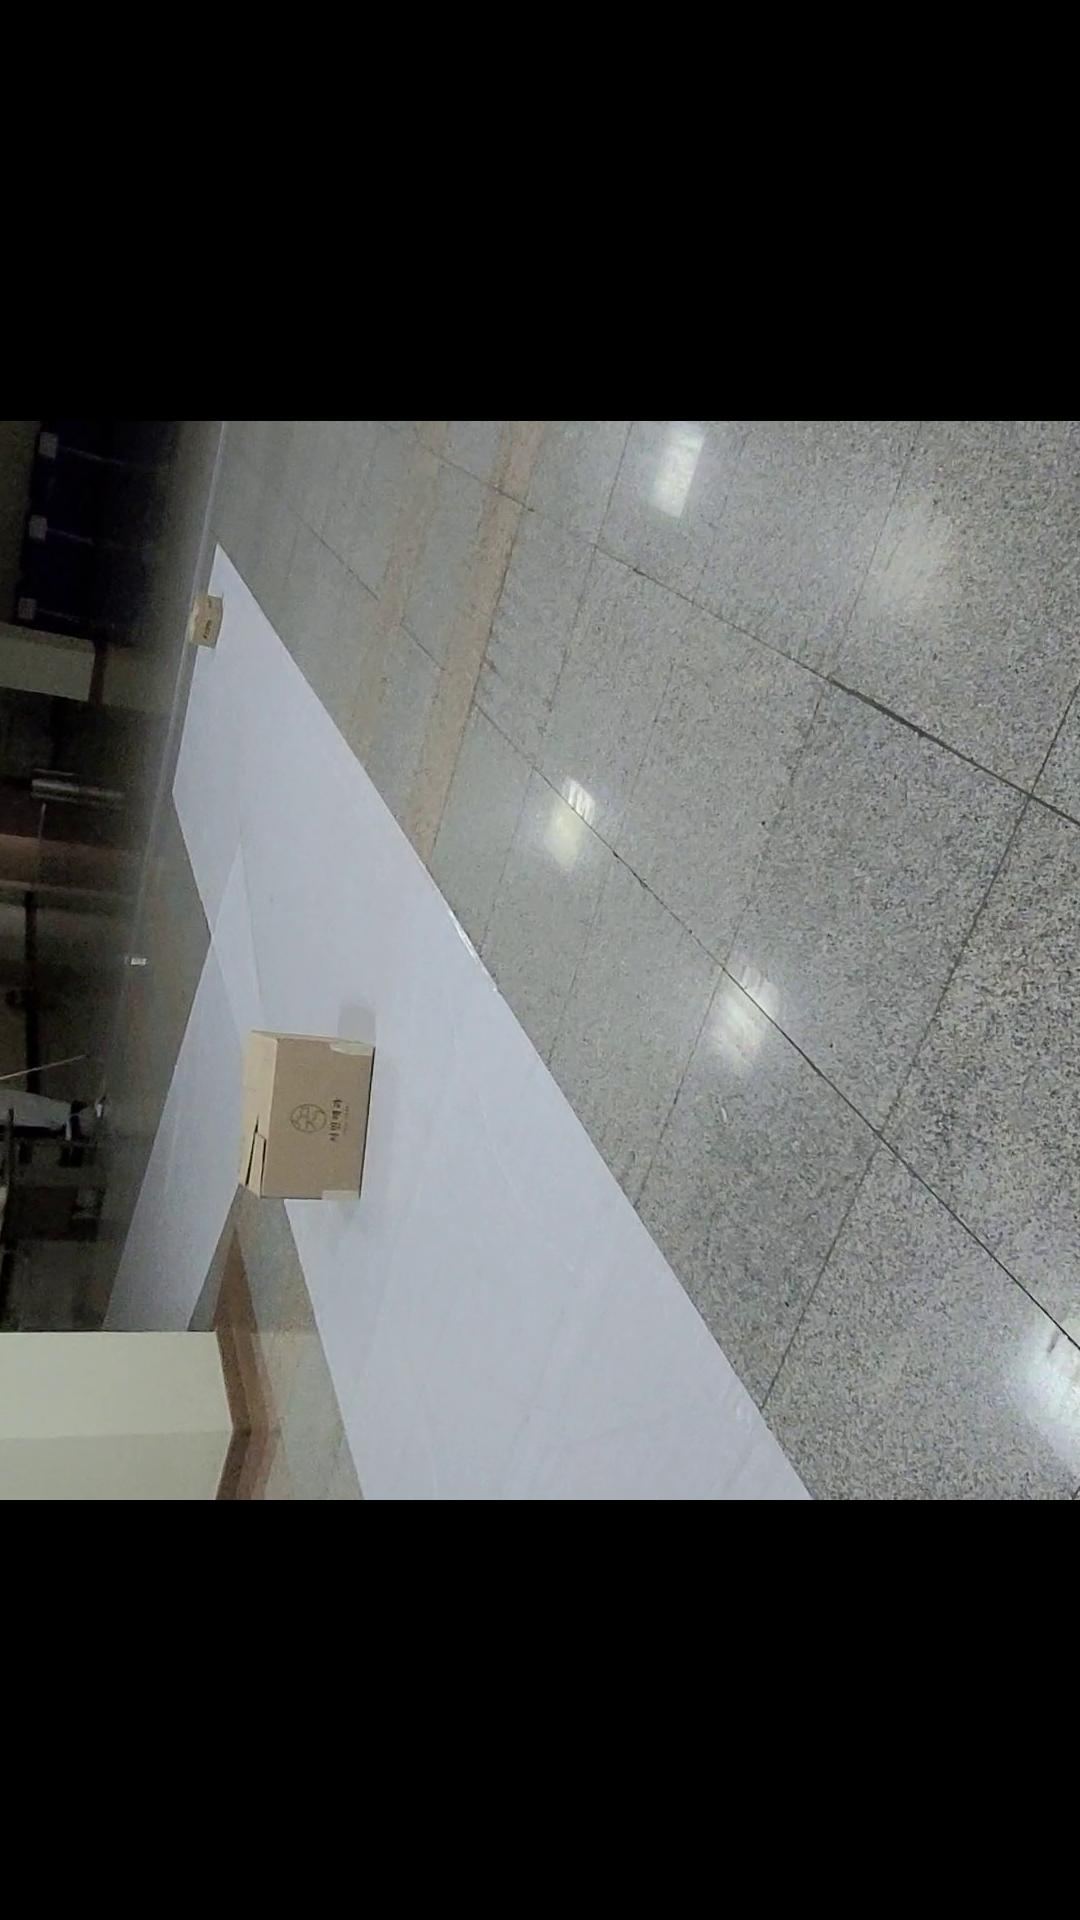Box: (203, 998, 405, 1226), (156, 585, 240, 667)
